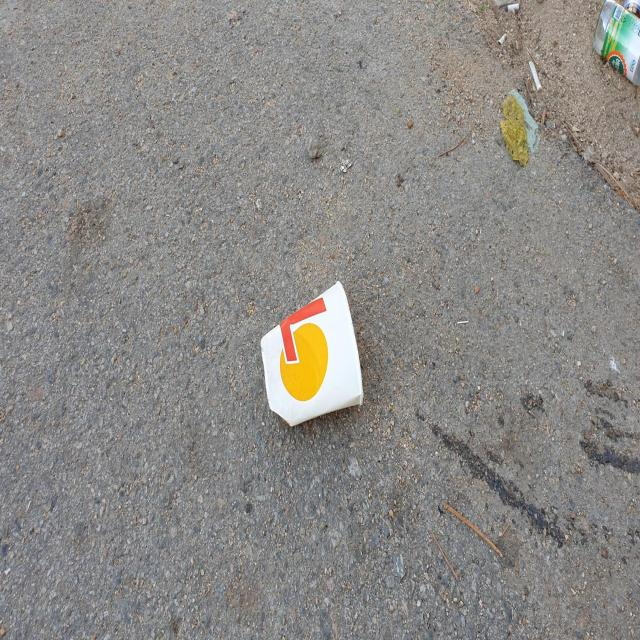glass: (594, 0, 640, 84)
paperpack: (261, 281, 363, 425)
